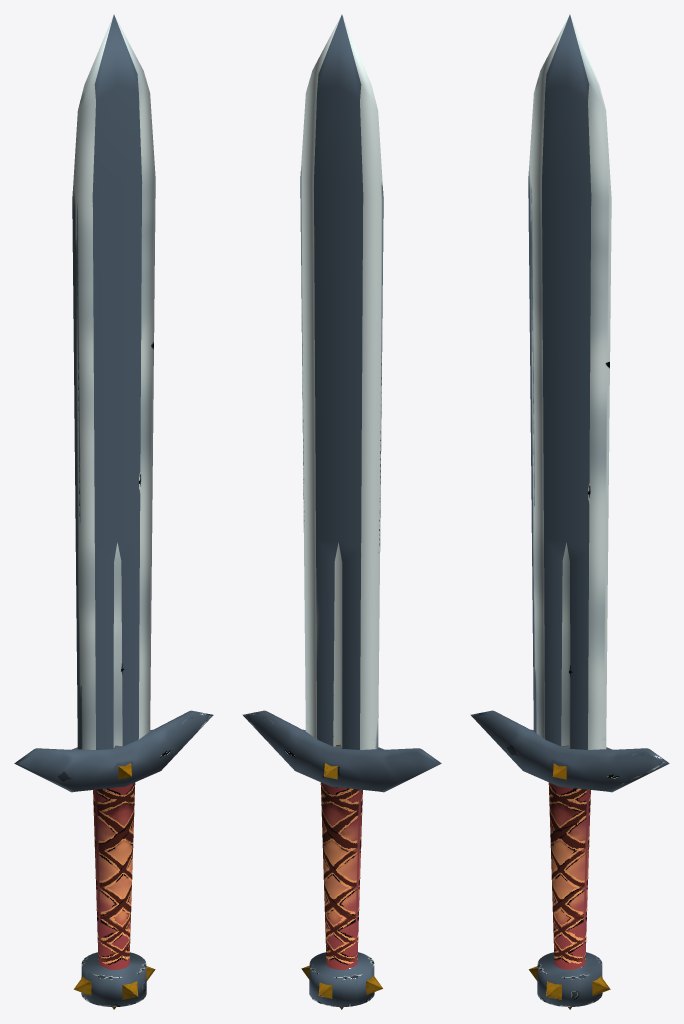
The model's file is Sword.fbx.
The picture shows the model from 3 angles, left to right: view 1: azimuth 30°, elevation 25°; view 2: azimuth 150°, elevation 25°; view 3: azimuth 330°, elevation 25°; orthographic projection.
Visible parts, largest first — view 1: Espada low; view 2: Espada low; view 3: Espada low.
Boxes of the visible parts, bbox=[...] form: Espada low: bbox=[14, 14, 213, 1009]; Espada low: bbox=[242, 14, 441, 1009]; Espada low: bbox=[470, 14, 669, 1009].
Bounding box in the file's own units: 51.48 × 246 × 21.19.
1 material, 1 textured.
